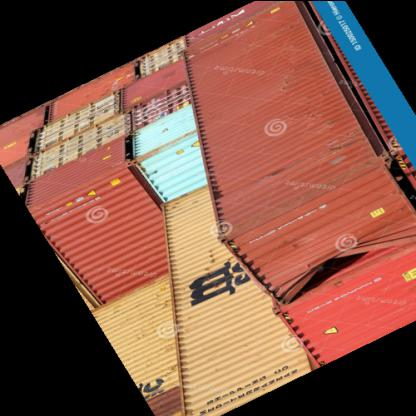Damage: (280, 241, 387, 307)
